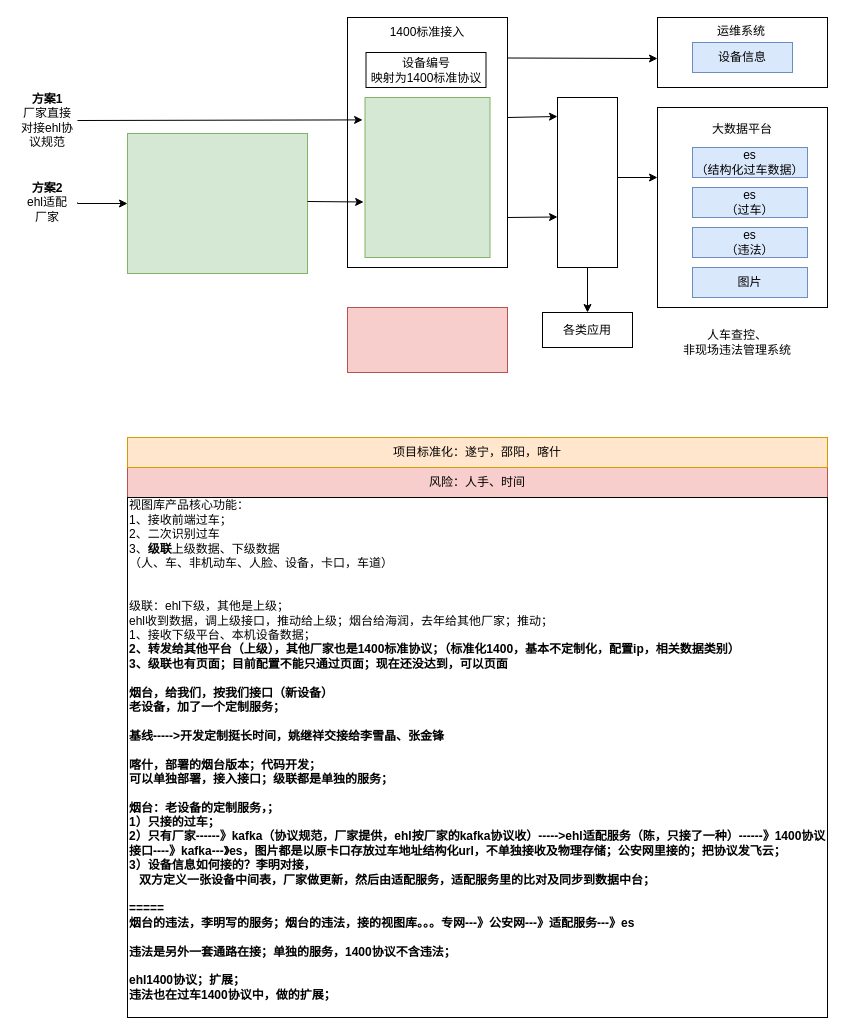
This 845x1035 diagram has some shape labels left out. Here are the shapes that lost their labels. From the top down, the centre of each, then its label:
At point (427, 177): "1400协议 标准接口".
At point (587, 182): "kafka".
At point (217, 203): "各厂家适配服务 （ehl来做） 1、过车结构化数据 2、卡口图片 3、卡口设备基础信息 4、级联给其他厂家，传数据".
At point (427, 339): "视图库产品 （ehl） 数据组，数据组定制开发".
